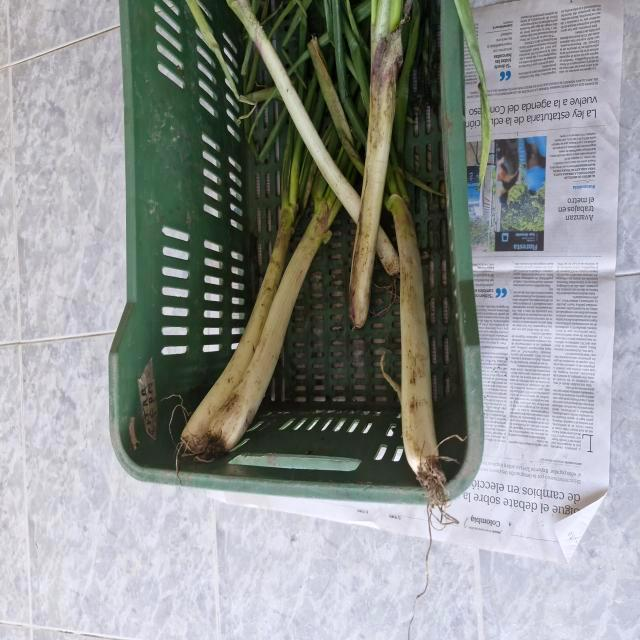green_onion: (168, 120, 354, 478), (372, 112, 460, 484)
